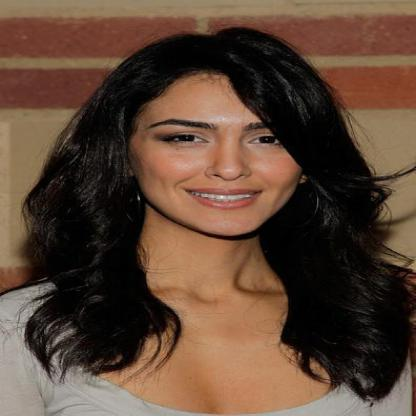long-hair: (58, 239, 386, 301)
